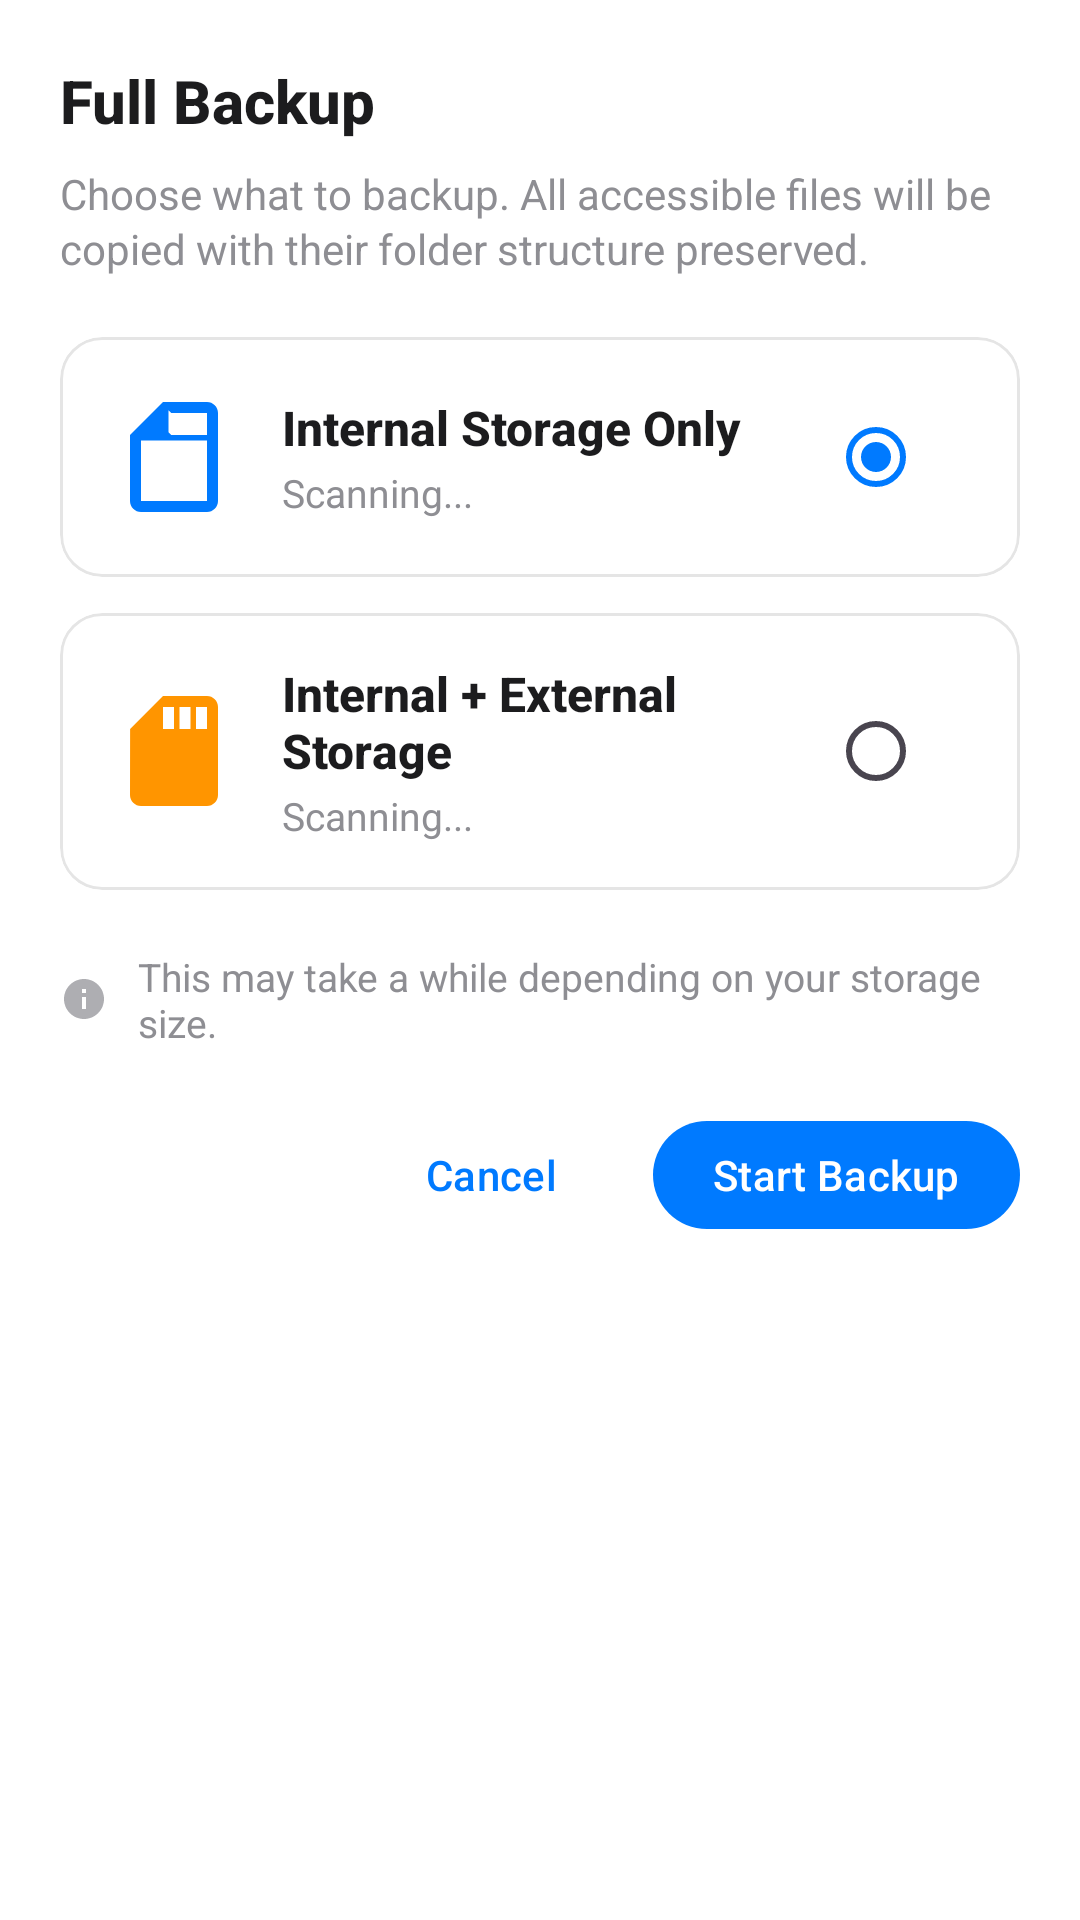

Where to tap for icons on this 1080×1920 app screen, as (x=x, y=y):
sd card: (x=174, y=751)
